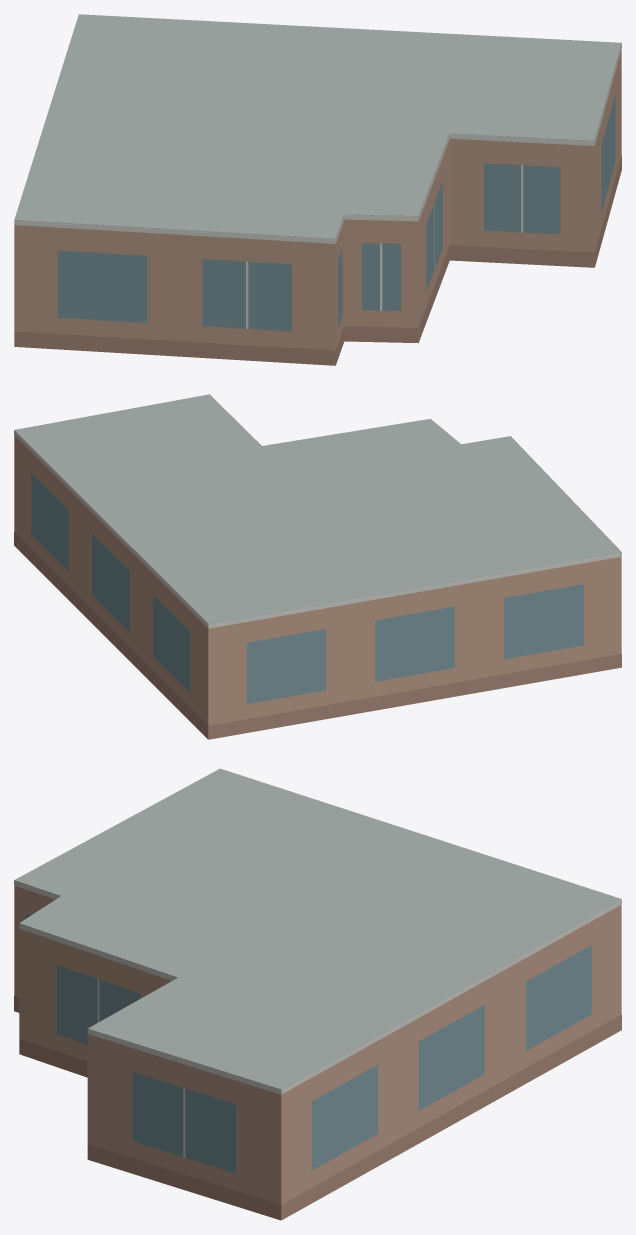
Rendered from survey-upis-32637218.glb.
3 views of the same model, one above another, from view 1: azimuth 30°, elevation 25°; view 2: azimuth 150°, elevation 25°; view 3: azimuth 270°, elevation 25° (orthographic). The views are drawn at different scales.
Visible parts, largest first — view 1: survey-upis-32637218.tmp; view 2: survey-upis-32637218.tmp; view 3: survey-upis-32637218.tmp.
Boxes of the visible parts, x1,y1,x2,y2 form: survey-upis-32637218.tmp: (14,14,621,365); survey-upis-32637218.tmp: (14,394,621,739); survey-upis-32637218.tmp: (14,768,621,1220).
Size of the model in its own units: 16.03 by 3.05 by 12.83.
